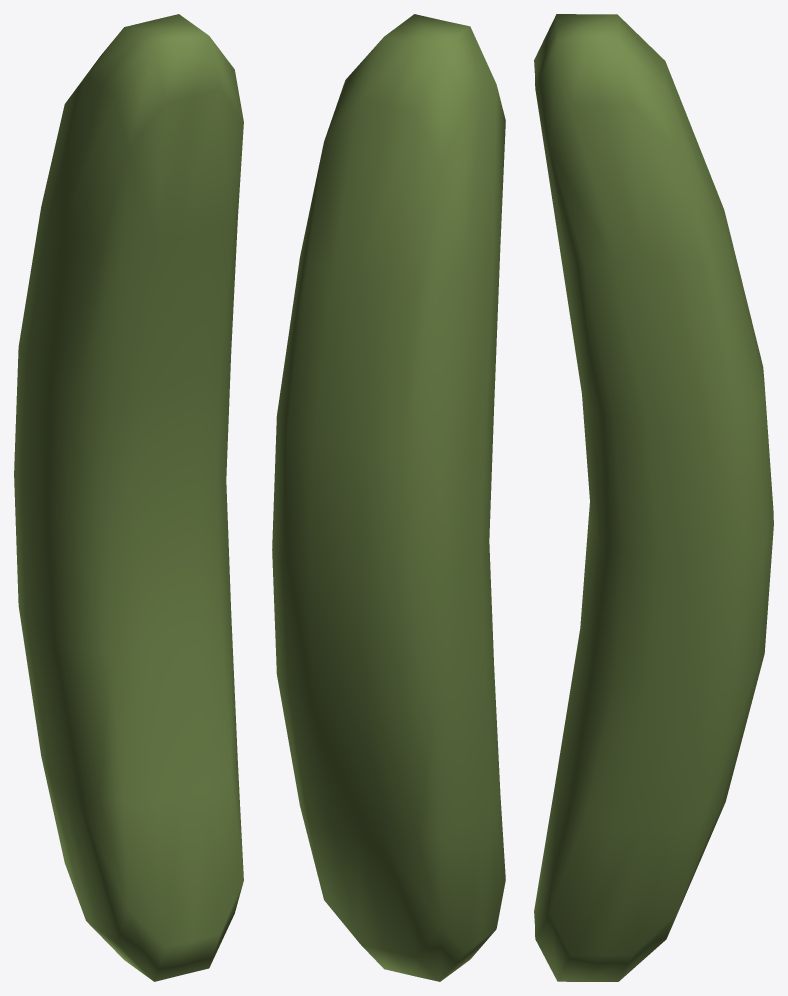
Rendered from Pickle.fbx.
3 views of the same model, side by side, from view 1: azimuth 30°, elevation 25°; view 2: azimuth 150°, elevation 25°; view 3: azimuth 270°, elevation 25° (orthographic).
Parts seen in each view (by area): view 1: SiglePickle; view 2: SiglePickle; view 3: SiglePickle.
Part boxes in pixels (x1,y1,x2,y2): SiglePickle: (14, 14, 243, 981); SiglePickle: (272, 14, 505, 981); SiglePickle: (534, 14, 773, 981).
Size of the model in its own units: 5 by 25.94 by 5.99.
